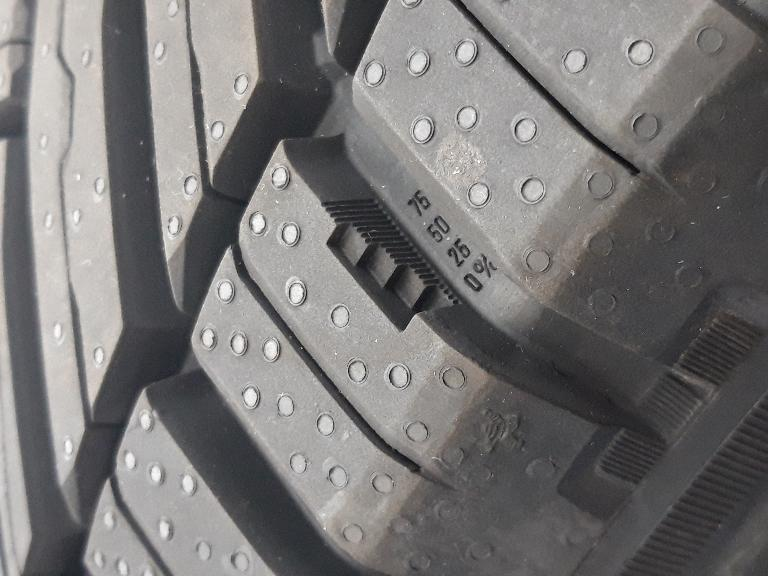temoin:100: (313, 192, 469, 340)
